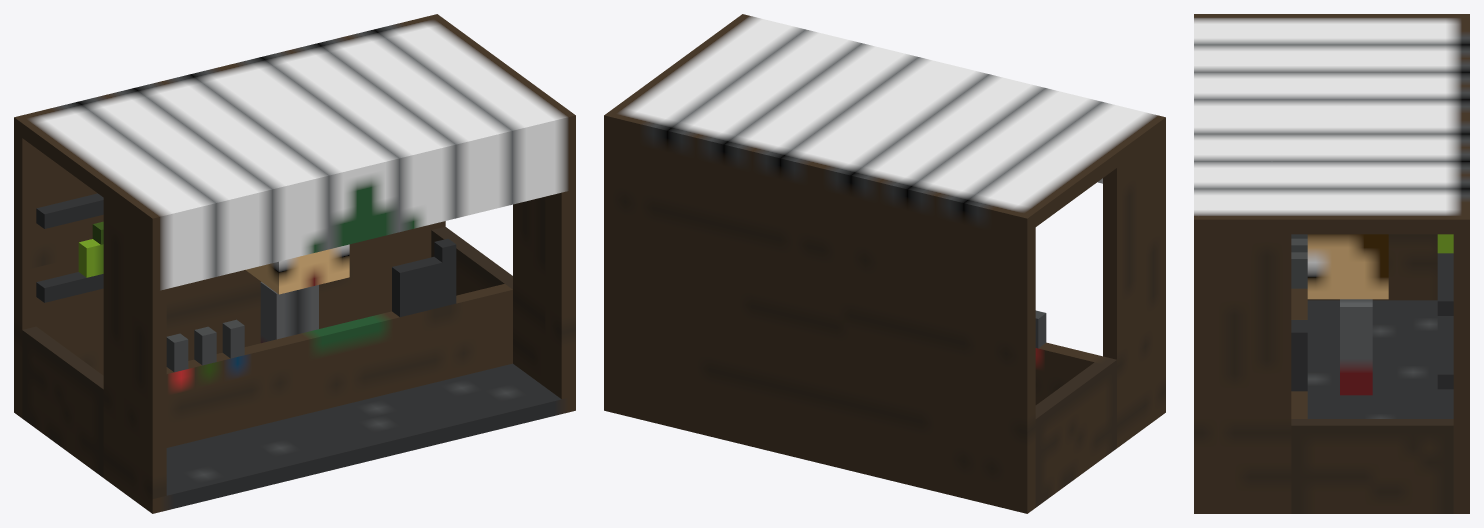
The model's file is Club1.dae.
The picture shows the model from 3 angles, left to right: view 1: azimuth 30°, elevation 25°; view 2: azimuth 150°, elevation 25°; view 3: azimuth 270°, elevation 25°; orthographic projection.
Visible parts, largest first — view 1: Club1; view 2: Club1; view 3: Club1.
Boxes of the visible parts, <box> form: Club1: <box>14,14,575,513</box>; Club1: <box>604,14,1165,513</box>; Club1: <box>1194,14,1469,513</box>.
Bounding box in the file's own units: 30 × 20 × 17.
1 material, 1 textured.
